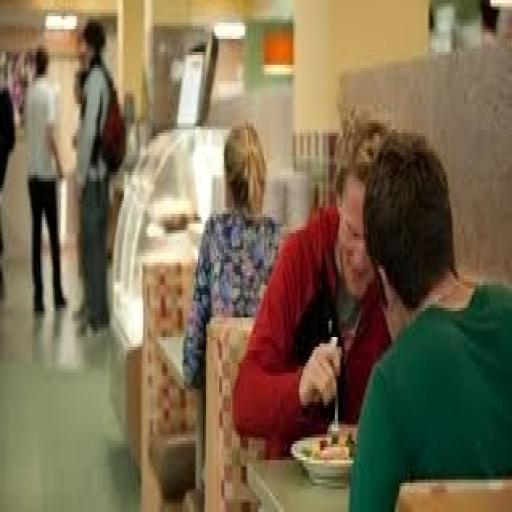eating: (346, 126, 510, 509)
